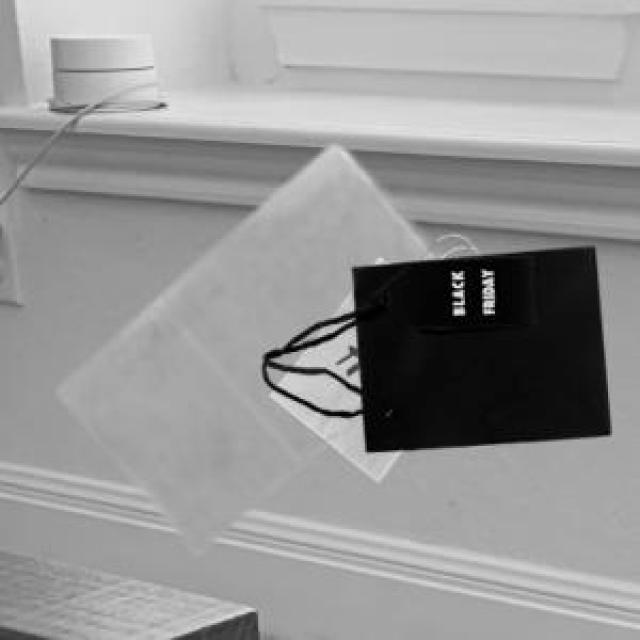paper: (56, 143, 437, 548), (258, 243, 606, 448), (267, 286, 397, 478)
